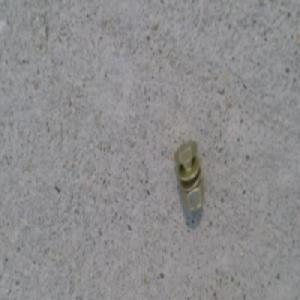BoltNutSet: (175, 143, 204, 212)
